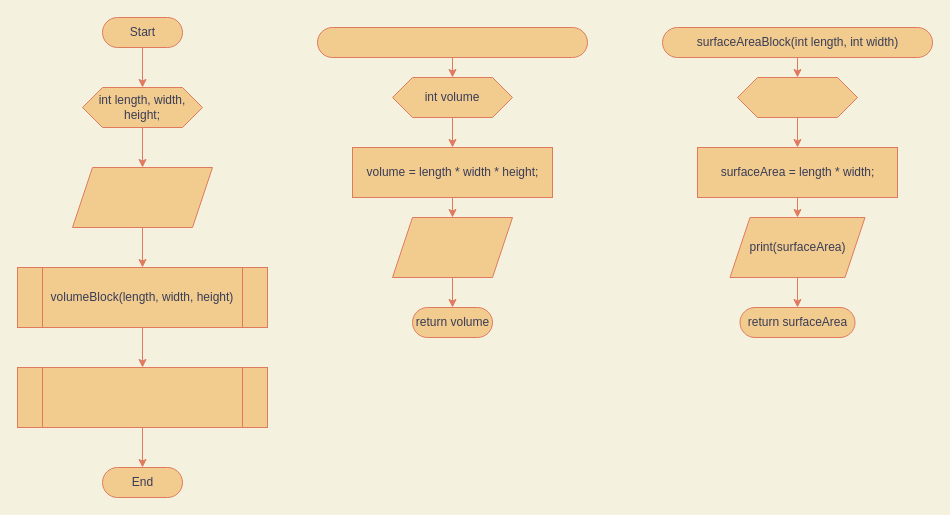
This 950x515 diagram has some shape labels left out. Each missing label, with the centre of its shape:
"input length, width, height;" belongs at [142,197].
"int surfaceArea" belongs at [797,97].
"print(volume)" belongs at [452,247].
"surfaceAreaBlock(length, width);" belongs at [142,397].
"volumeBlock(int length, int width, int height)" belongs at [452,42].
